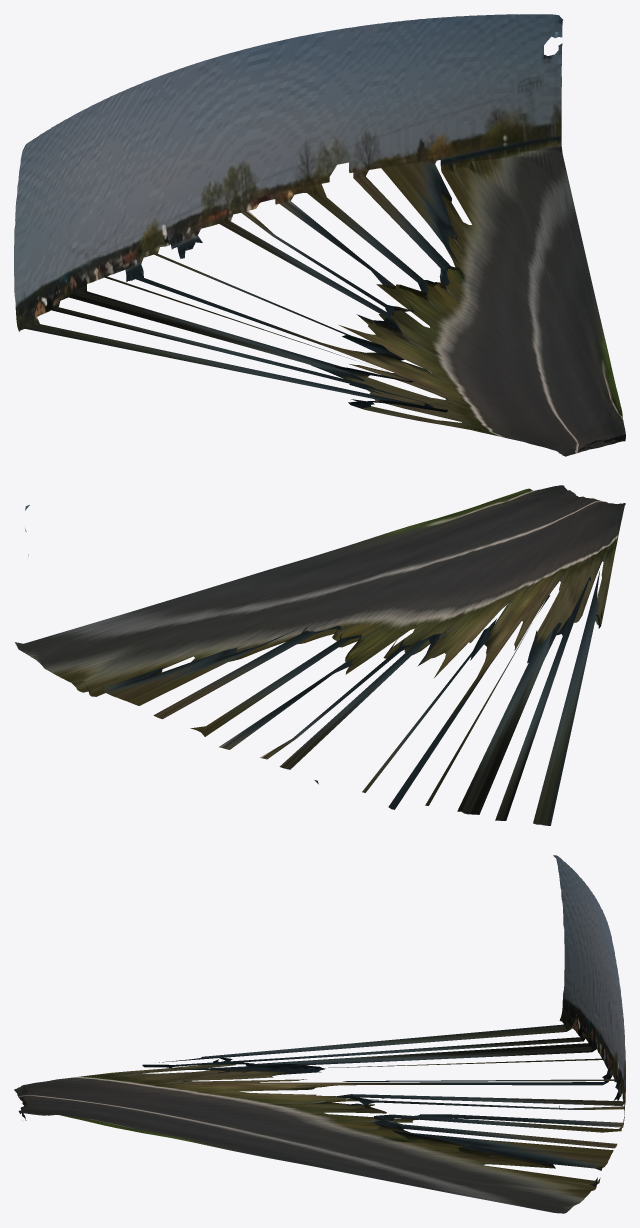
The picture shows the model from 3 angles, top to bottom: view 1: azimuth 30°, elevation 25°; view 2: azimuth 150°, elevation 25°; view 3: azimuth 270°, elevation 25°; orthographic projection. The views are drawn at different scales.
Visible parts, largest first — view 1: defaultobject; view 2: defaultobject; view 3: defaultobject.
Part boxes in pixels (bbox=[...]): defaultobject: bbox=[14, 14, 625, 456]; defaultobject: bbox=[15, 485, 625, 825]; defaultobject: bbox=[14, 855, 625, 1213].
Bounding box in the file's own units: 41.16 × 14.3 × 44.62.
Materials: 1 (1 with a texture image).
